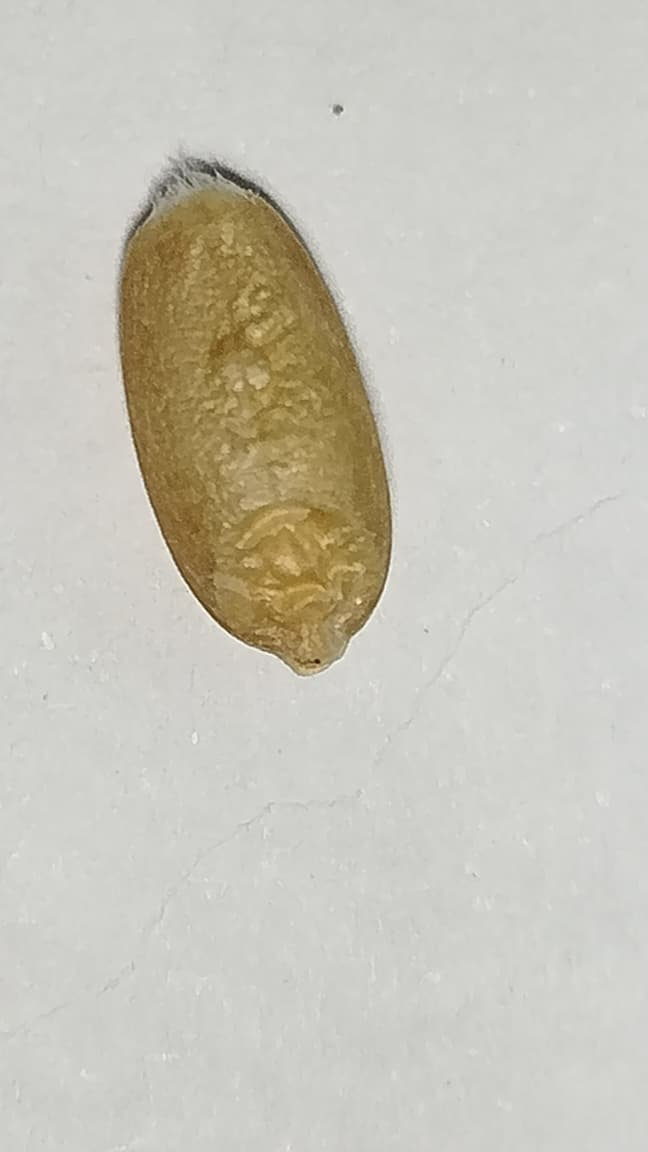healthy: (119, 164, 392, 673)
